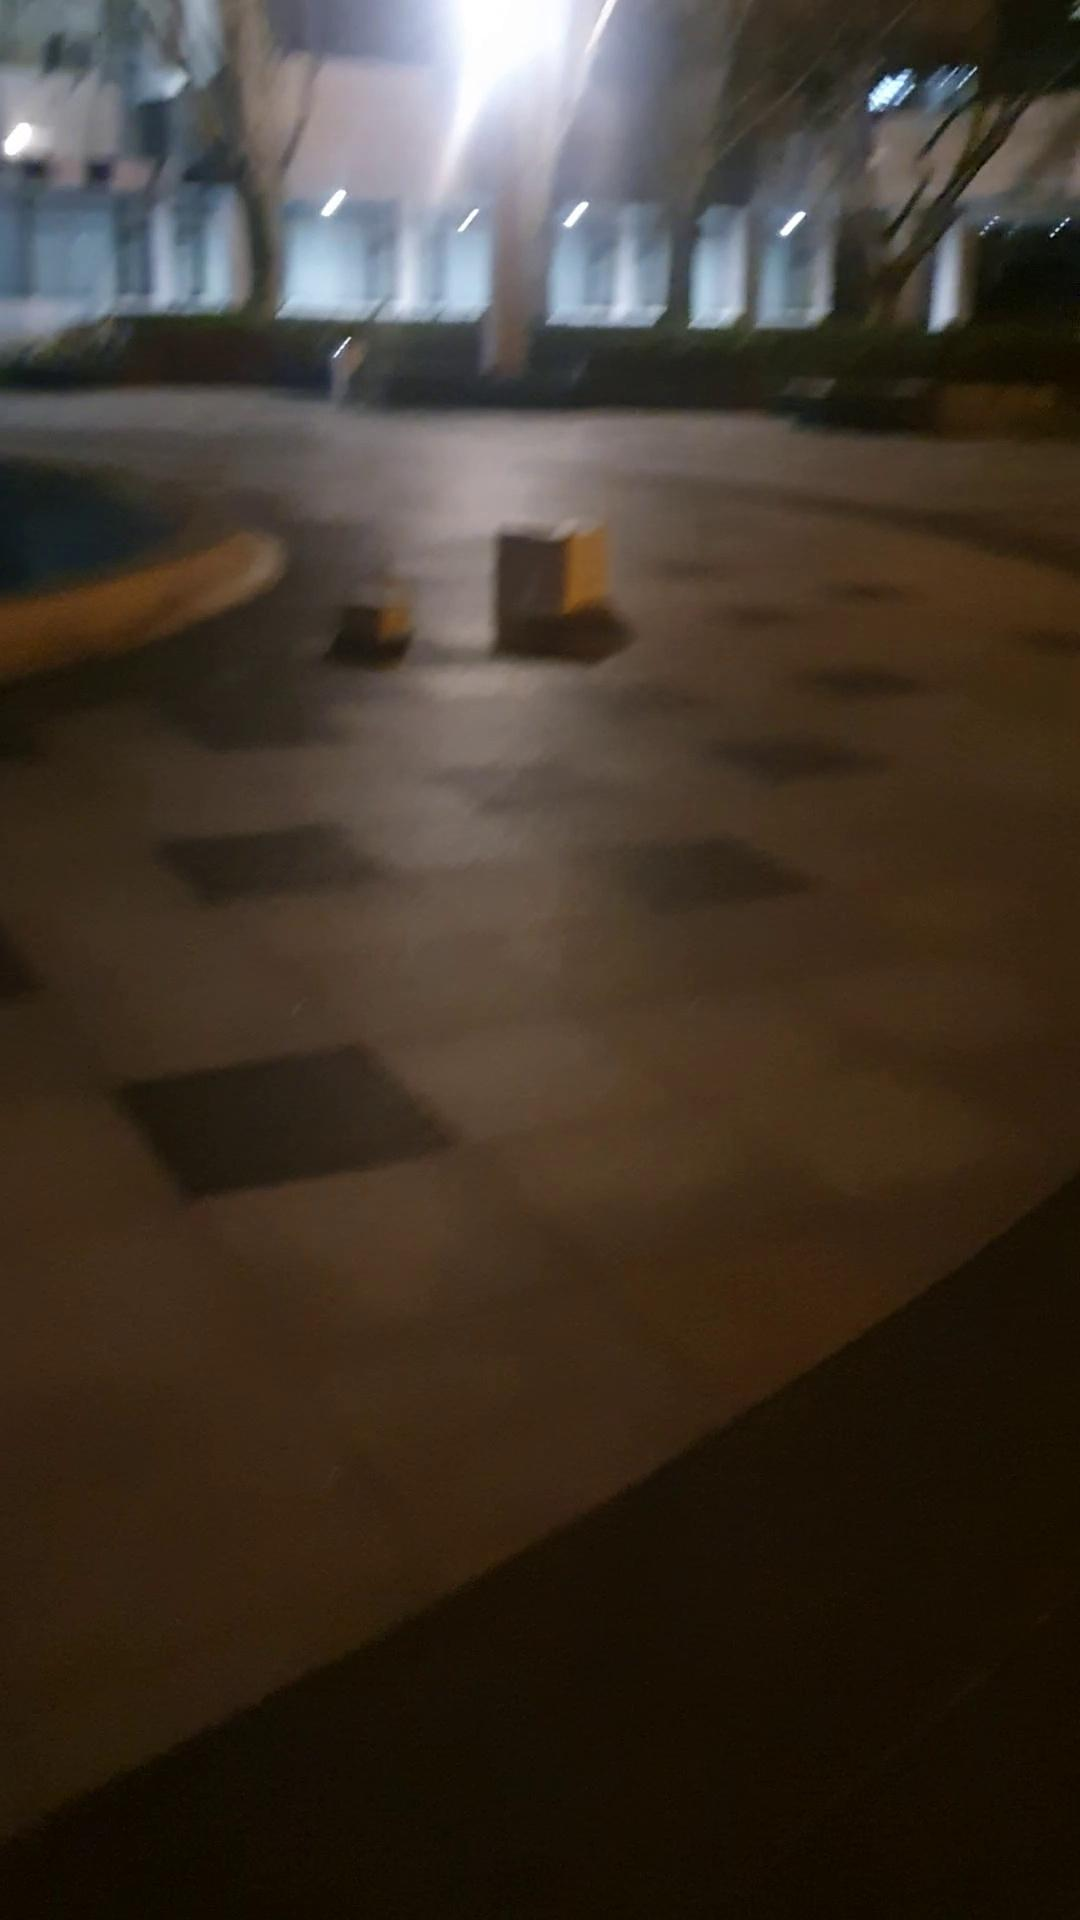Box: (491, 518, 618, 638), (334, 589, 425, 659)
